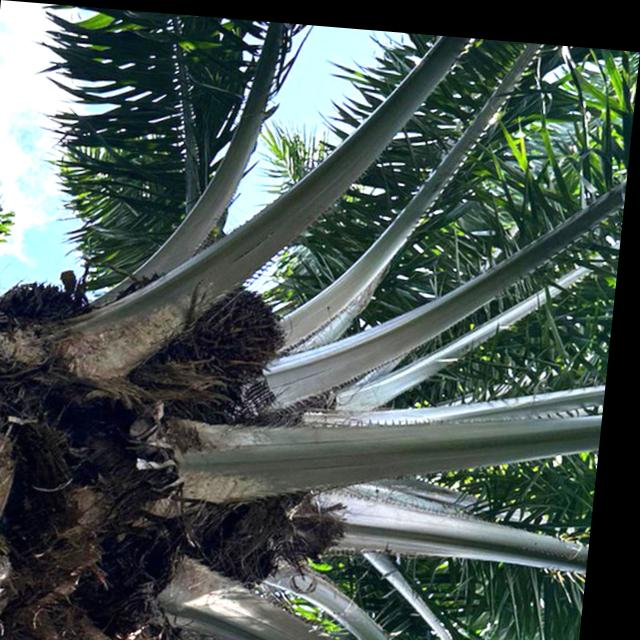ripe: (176, 270, 307, 386)
